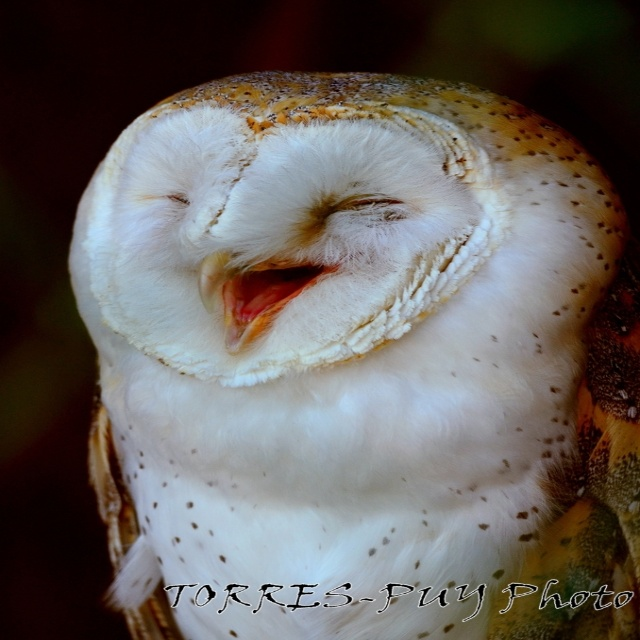Owl: (66, 73, 640, 640)
